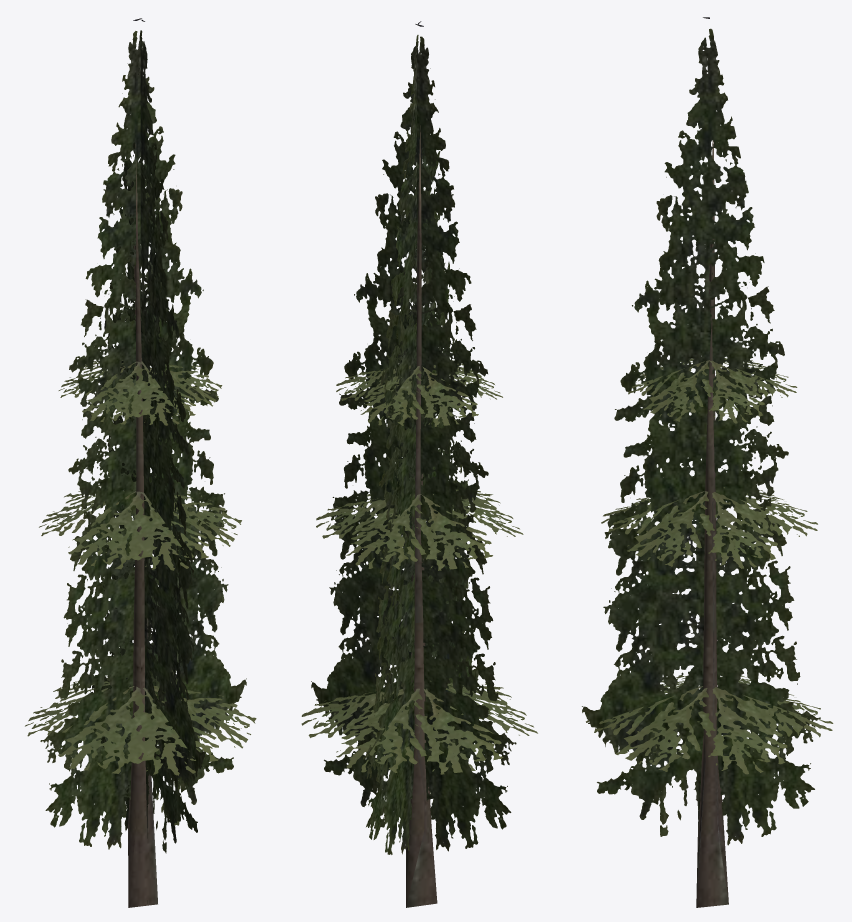
File: Background_Tree_Atlas_alt.glb
3 renders of one model, left to right at view 1: azimuth 30°, elevation 25°; view 2: azimuth 150°, elevation 25°; view 3: azimuth 270°, elevation 25°, orthographic.
Parts seen in each view (by area): view 1: Background_Tree_Atlas; view 2: Background_Tree_Atlas; view 3: Background_Tree_Atlas.
Boxes of the visible parts, box(x1,y1,x2,y2) form: Background_Tree_Atlas: box(25, 18, 256, 907); Background_Tree_Atlas: box(301, 21, 537, 907); Background_Tree_Atlas: box(582, 17, 833, 907).
Size of the model in its own units: 697 by 2601 by 705.
1 material, 1 textured.
